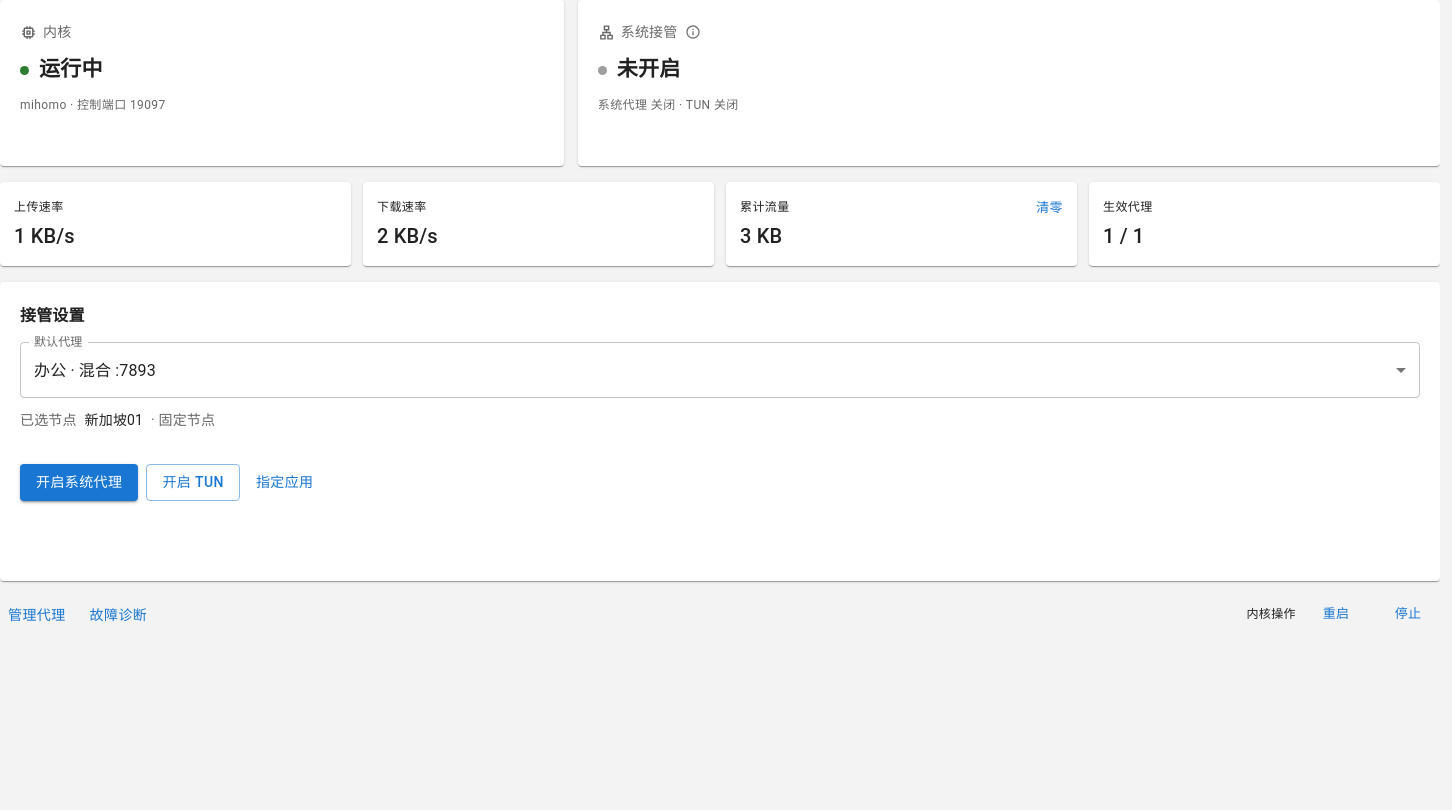
Test: reports an enable failure without displaying enabled capture
Click the button "开启系统代理" at [79, 482], box top-left (20, 464), bottom-right (138, 500)
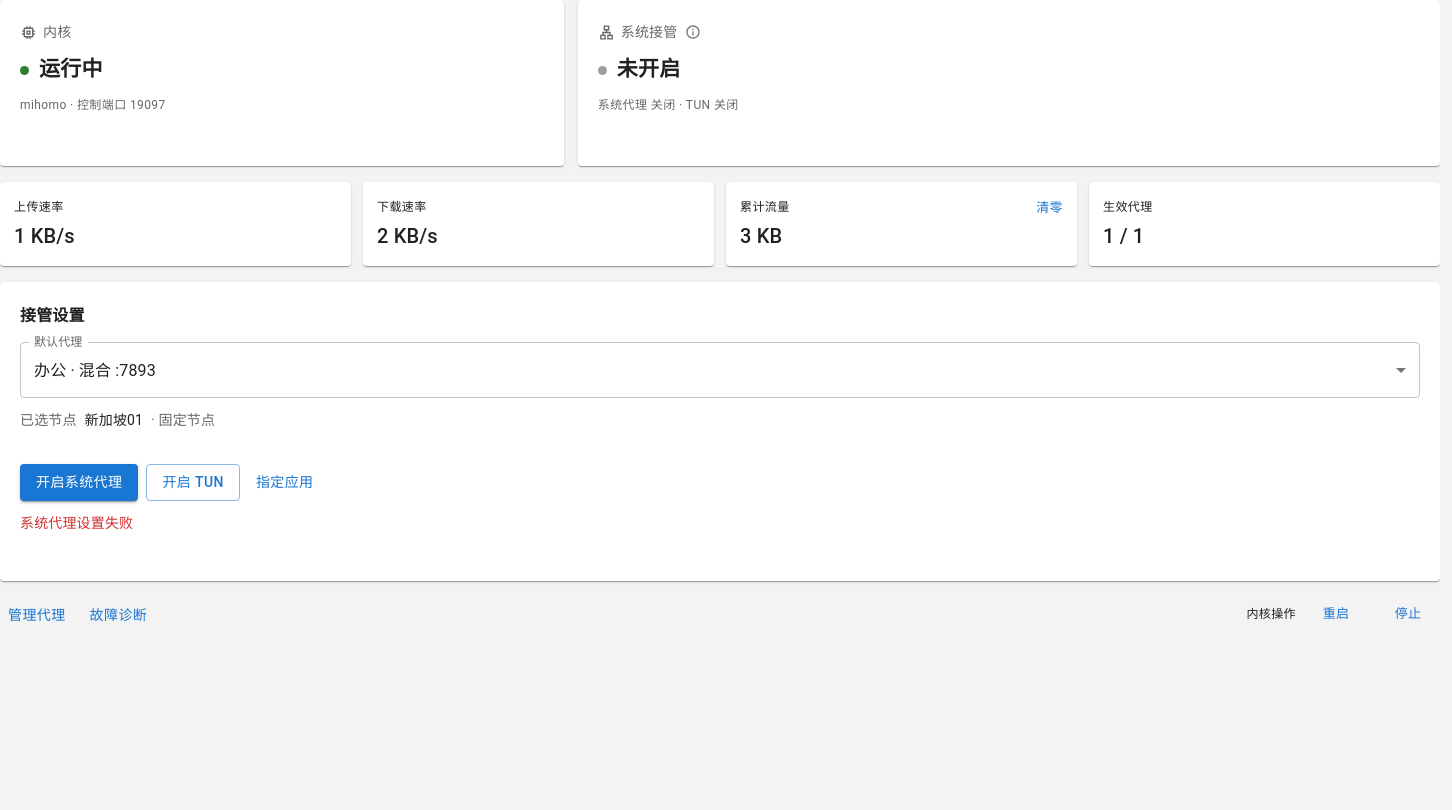
Check: the text "未开启" is shown, box top-left (617, 54), bottom-right (680, 86)
Check: the message reads "系统代理设置失败", box top-left (20, 514), bottom-right (133, 530)
